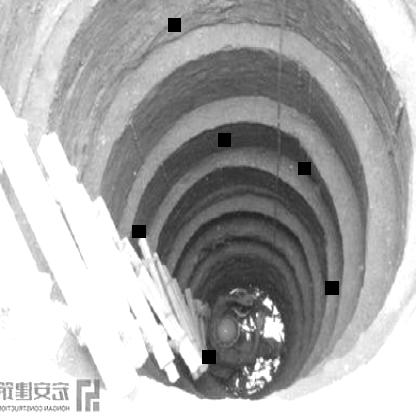helmet: (209, 316, 242, 346)
